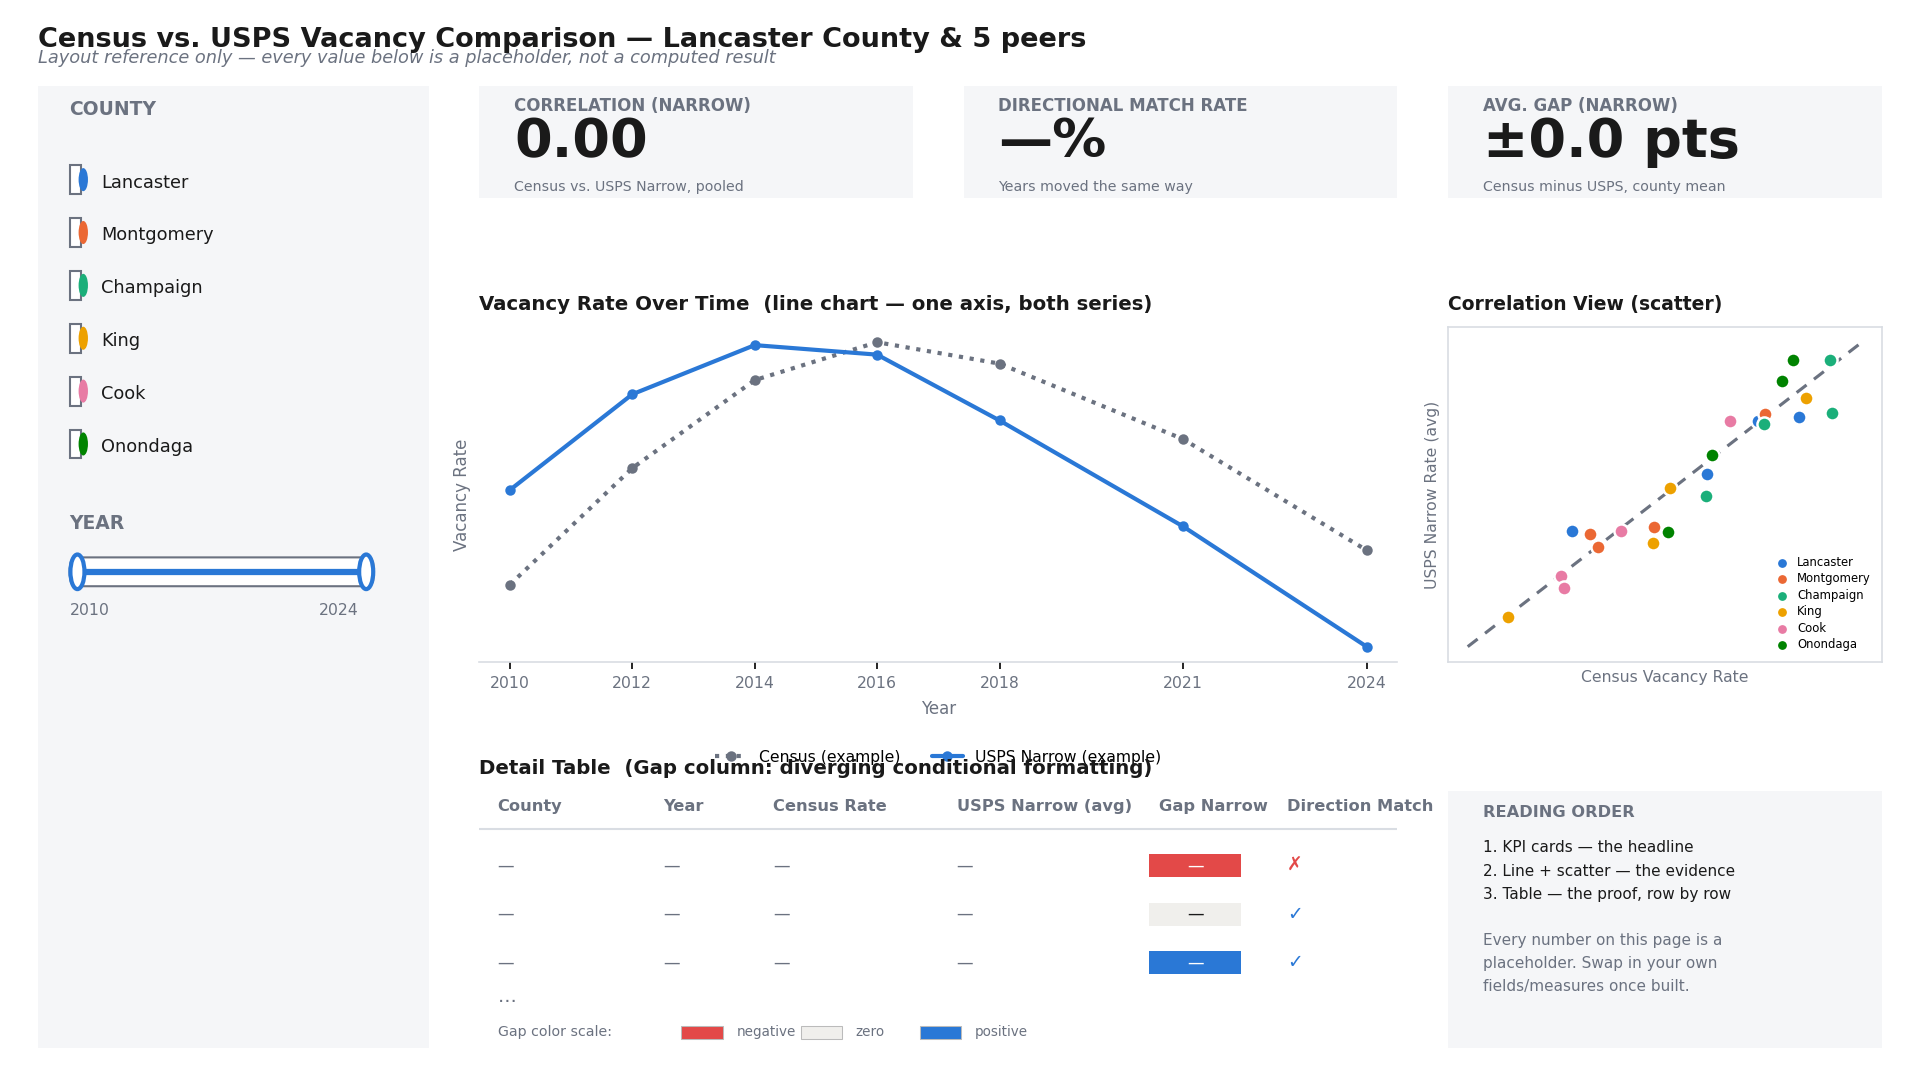

The page's visual inventory and layout, read from the dashboard file:
{"tool":"powerbi","page":{"name":"Vacancy Rate","canvas":[1920,1080],"ordinal":0},"visuals":[{"type":"slicer","fields":{"Values":["Comparison.County"]},"box":[8,8,224,636],"z":0},{"type":"slicer","fields":{"Values":["Comparison.Year"]},"box":[8,652,224,420],"z":1},{"type":"cardVisual","title":"Correlation (Narrow Rate)","fields":{"Data":["Comparison.Correlation (Narrow)"]},"box":[240,8,552,140],"z":2},{"type":"cardVisual","title":"Directional Match Rate","fields":{"Data":["Comparison.Directional Match Rate"]},"box":[800,8,552,140],"z":3},{"type":"cardVisual","title":"Average Gap Narrow","fields":{"Data":["Comparison.Average Gap Narrow"]},"box":[1360,8,552,140],"z":4},{"type":"lineChart","title":"Vacancy Rate Over Time","fields":{"Category":["Comparison.Year"],"Rows":["Comparison.County"],"Y":["Comparison.Avg Census Vacancy Rate","Comparison.Avg USPS Narrow Rate"]},"box":[240,156,832,340.6],"z":5},{"type":"scatterChart","title":"Correlation View","fields":{"Category":["Comparison.Year"],"Series":["Comparison.County"],"X":["Comparison.Avg Census Vacancy Rate"],"Y":["Comparison.Avg USPS Narrow Rate"]},"box":[1080,156,832,340],"z":6},{"type":"clusteredBarChart","title":"Gap by County (Census - USPS)","fields":{"Category":["Comparison.County"],"Y":["Comparison.Average Gap Narrow","Avg(Comparison.Gap Broad)"]},"box":[240,504,1672,220],"z":7},{"type":"tableEx","title":"County-Year Detail","fields":{"Values":["Comparison.County","Comparison.Year","Comparison.Census Vacancy Rate","Comparison.USPS Narrow Rate (avg)","Comparison.Gap Narrow","Comparison.Direction Match"]},"box":[248.1,740,1672,340],"z":8}]}

Visuals, with their boxes in screenshot pixels (x1, y1, x2, y2), scaled from the page's 1920x1080 canvas onto the 1920x1080 screenshot:
slicer - Comparison.County: select_region(8, 8, 232, 644)
slicer - Comparison.Year: select_region(8, 652, 232, 1072)
"Correlation (Narrow Rate)" cardVisual: select_region(240, 8, 792, 148)
"Directional Match Rate" cardVisual: select_region(800, 8, 1352, 148)
"Average Gap Narrow" cardVisual: select_region(1360, 8, 1912, 148)
"Vacancy Rate Over Time" lineChart: select_region(240, 156, 1072, 497)
"Correlation View" scatterChart: select_region(1080, 156, 1912, 496)
"Gap by County (Census - USPS)" clusteredBarChart: select_region(240, 504, 1912, 724)
"County-Year Detail" tableEx: select_region(248, 740, 1919, 1079)
